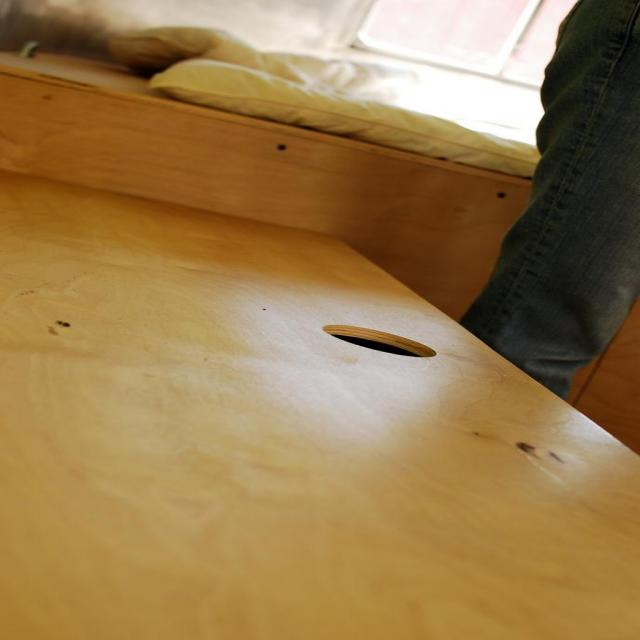table: (0, 0, 604, 640)
